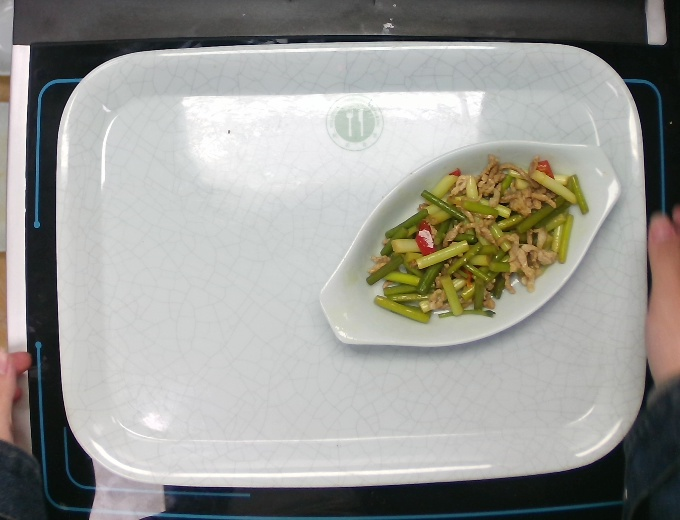JYsf-Yu_Pan: (313, 136, 628, 351)
